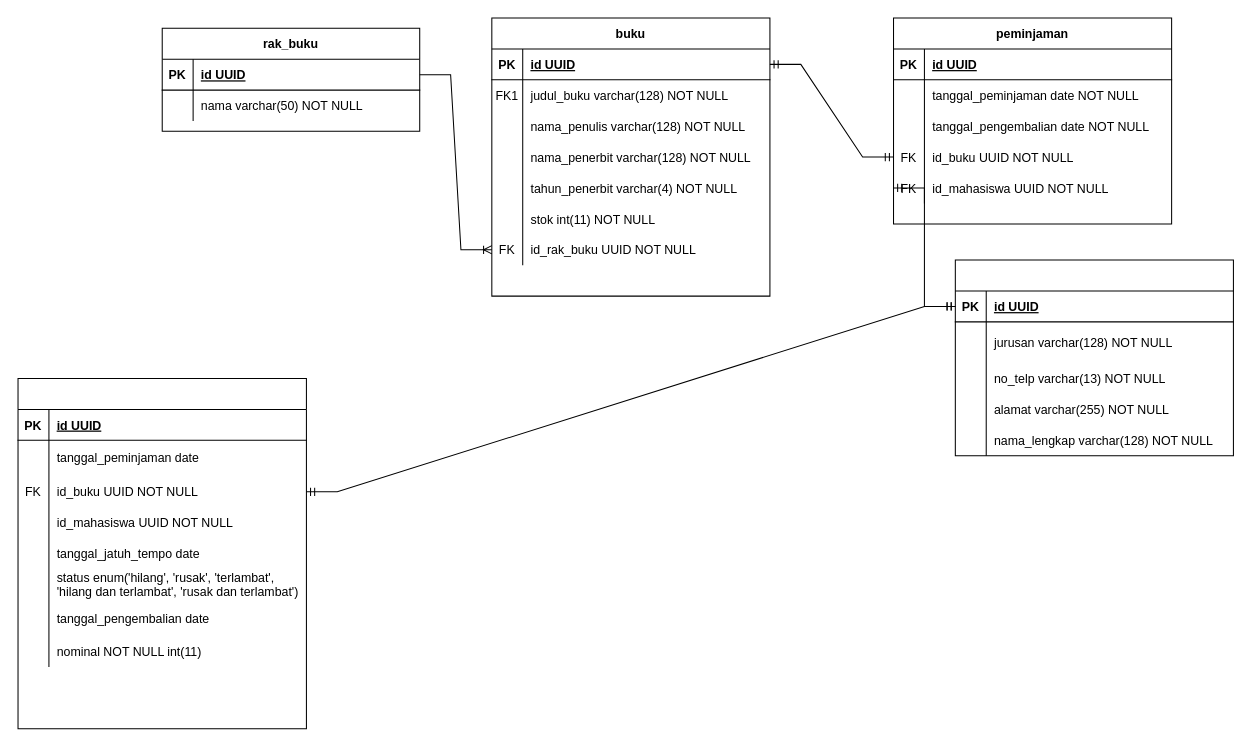
This 1251x747 diagram has some shape labels left out. The box of each missing label's shape, as (x1, y1, x2, y2) in pixels:
denda: (17, 377, 306, 729)
mahasiswa: (954, 259, 1233, 456)
